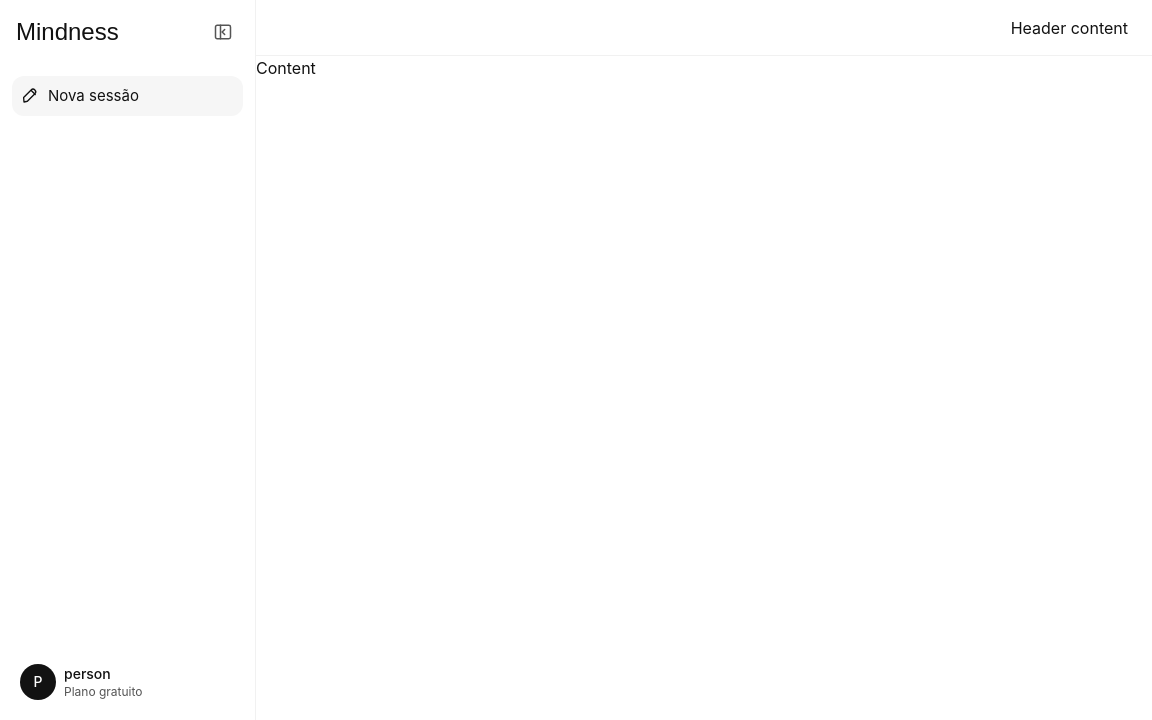
Test case: AuthenticatedShell › asks for confirmation before leaving an active session
The width and height of the screenshot is (1152, 720).
Click the link "Nova sessão": (128,96) left=12, top=76, right=243, bottom=116
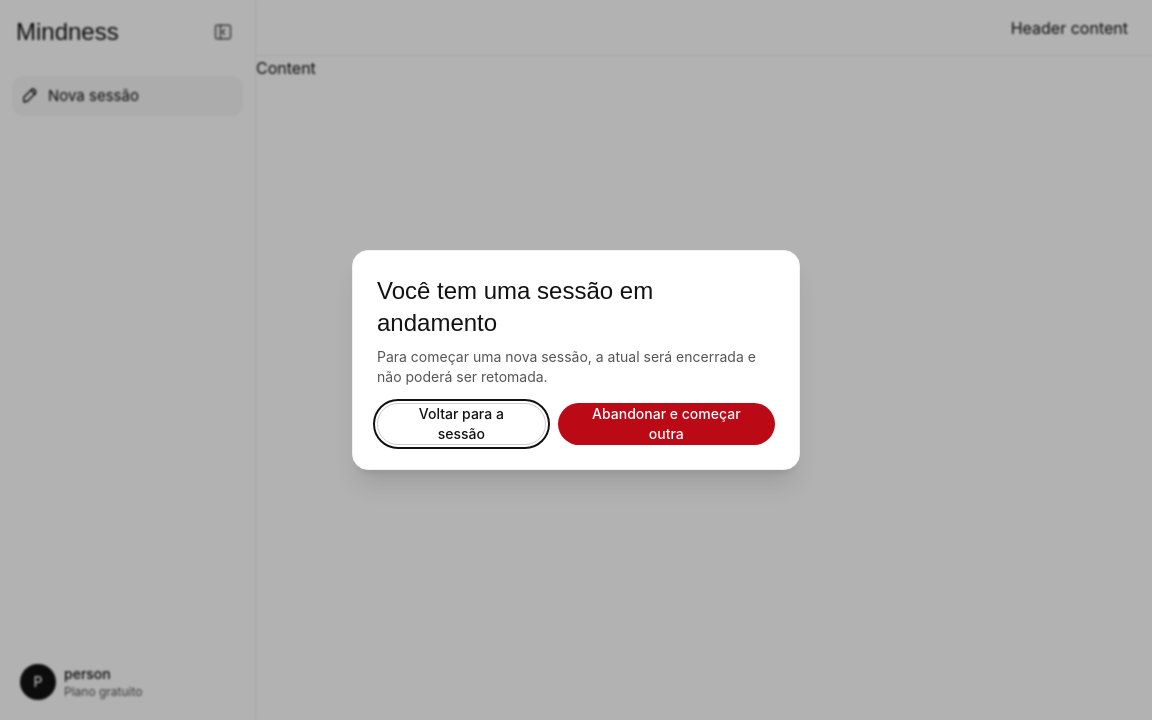
Result: the dialog "Você tem uma sessão em andamento" is shown at left=352, top=250, right=800, bottom=470
